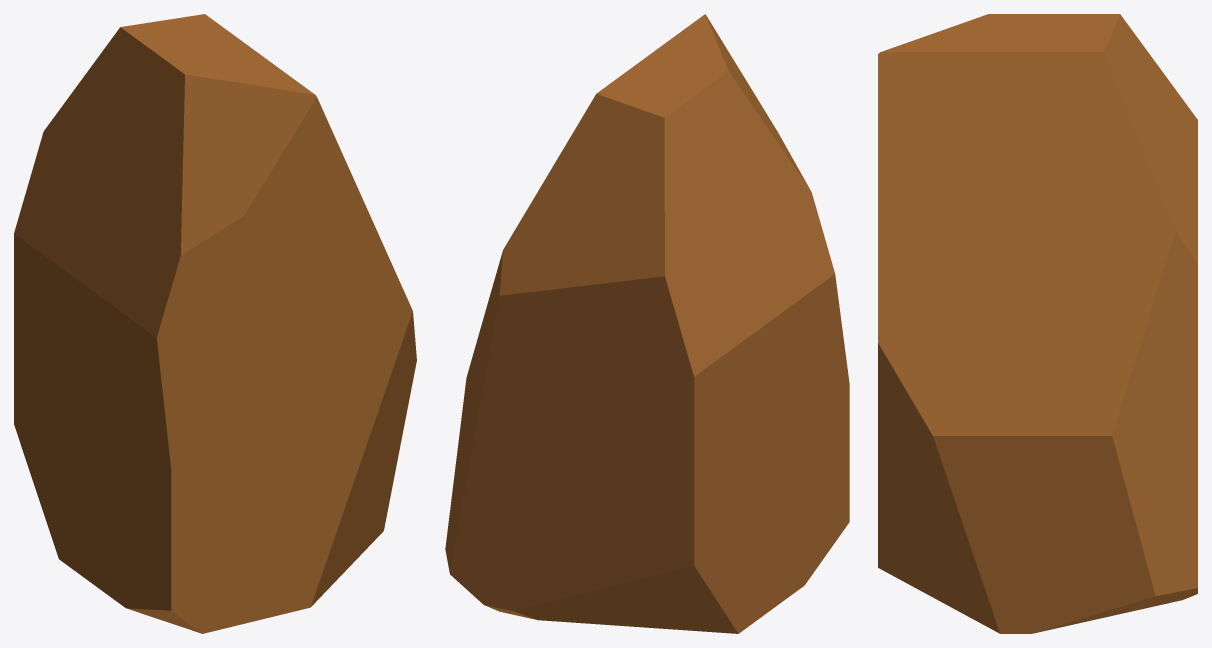
Rendered from HardRock_51.fbx.
3 renders of one model, left to right at view 1: azimuth 30°, elevation 25°; view 2: azimuth 150°, elevation 25°; view 3: azimuth 270°, elevation 25°, orthographic. The views are drawn at different scales.
Parts seen in each view (by area): view 1: HardRock_51; view 2: HardRock_51; view 3: HardRock_51.
Part boxes in pixels (x1,y1,x2,y2): HardRock_51: (14,14,416,633); HardRock_51: (445,14,849,633); HardRock_51: (878,14,1197,633).
Bounding box in the file's own units: 54.54 × 97.62 × 54.54.
